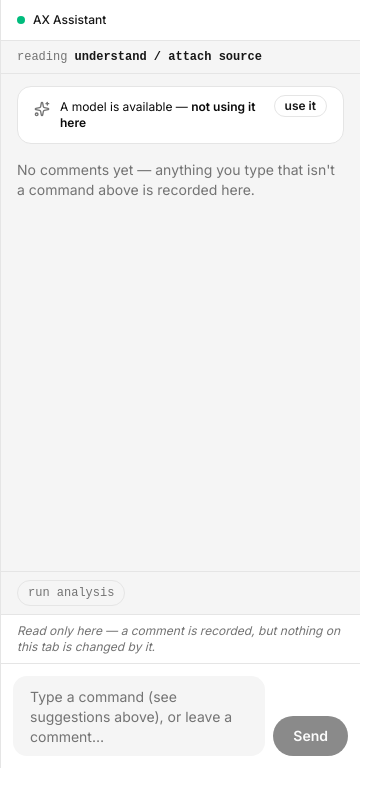
AxAssistantPanel › stop using / use it › turns it back on, leaving nothing behind in storage
Step 1. Click the button "use it" → [300, 106], box [274,95,327,117]
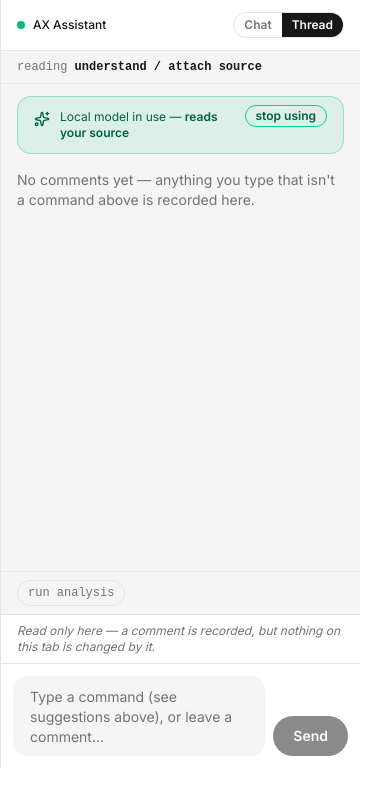
Expected: the text "Local model in use — reads your source" is shown, [60,109,234,141]
